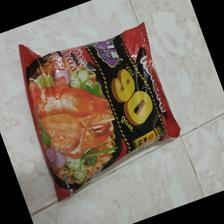Kokomi: (18, 23, 182, 204)
